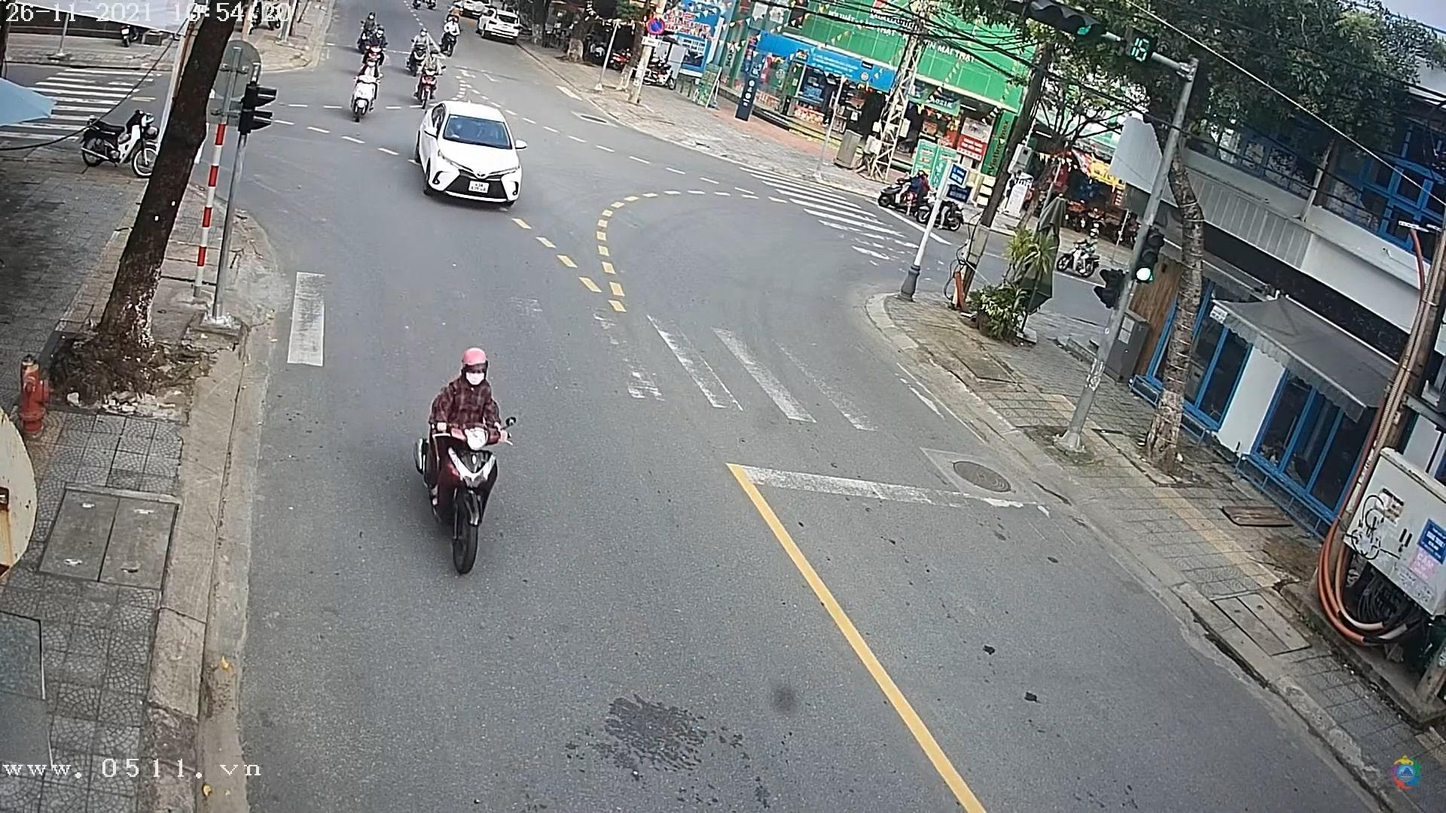car: (411, 102, 529, 211)
motorbike: (409, 405, 517, 580), (349, 64, 378, 123), (415, 59, 442, 107)
